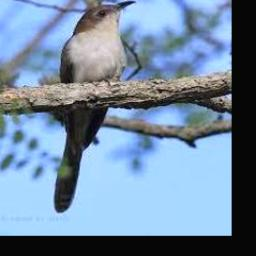Cuckoo: (53, 0, 137, 212)
